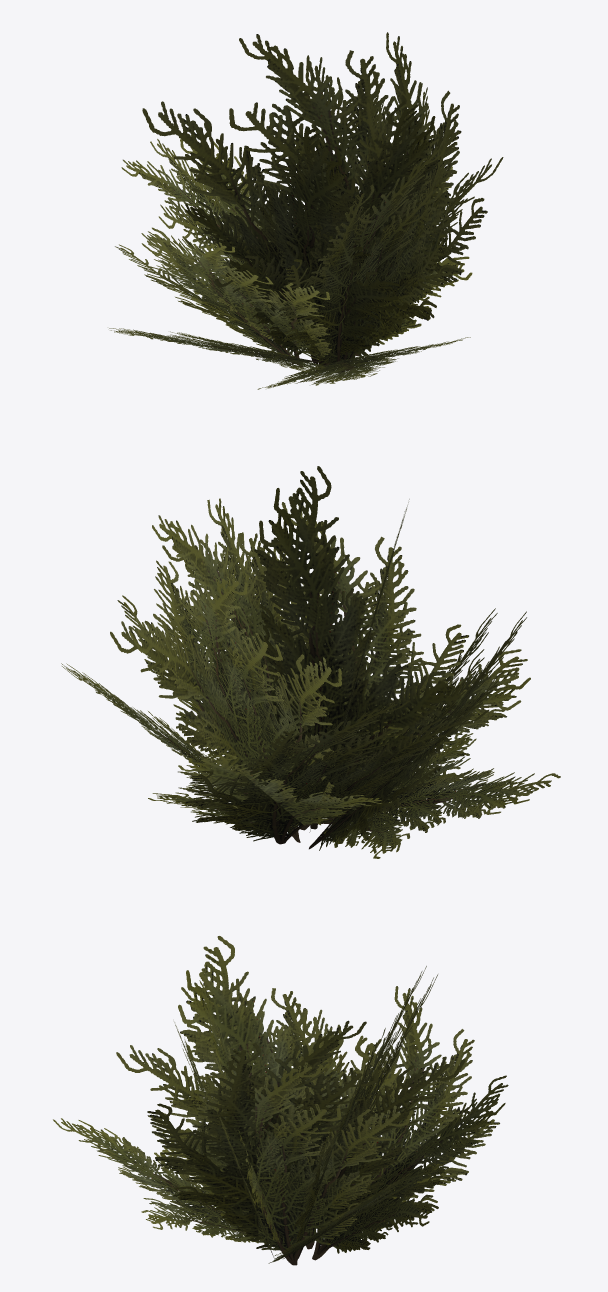
The model's file is Bush01.fbx.
3 views of the same model, one above another, from view 1: azimuth 30°, elevation 25°; view 2: azimuth 150°, elevation 25°; view 3: azimuth 270°, elevation 25° (orthographic). The views are drawn at different scales.
Parts seen in each view (by area): view 1: Bush01; view 2: Bush01; view 3: Bush01.
Boxes of the visible parts, bbox=[...] form: Bush01: bbox=[109, 32, 503, 389]; Bush01: bbox=[61, 466, 560, 858]; Bush01: bbox=[53, 936, 508, 1265].
Bounding box in the file's own units: 157 × 100 × 156.
